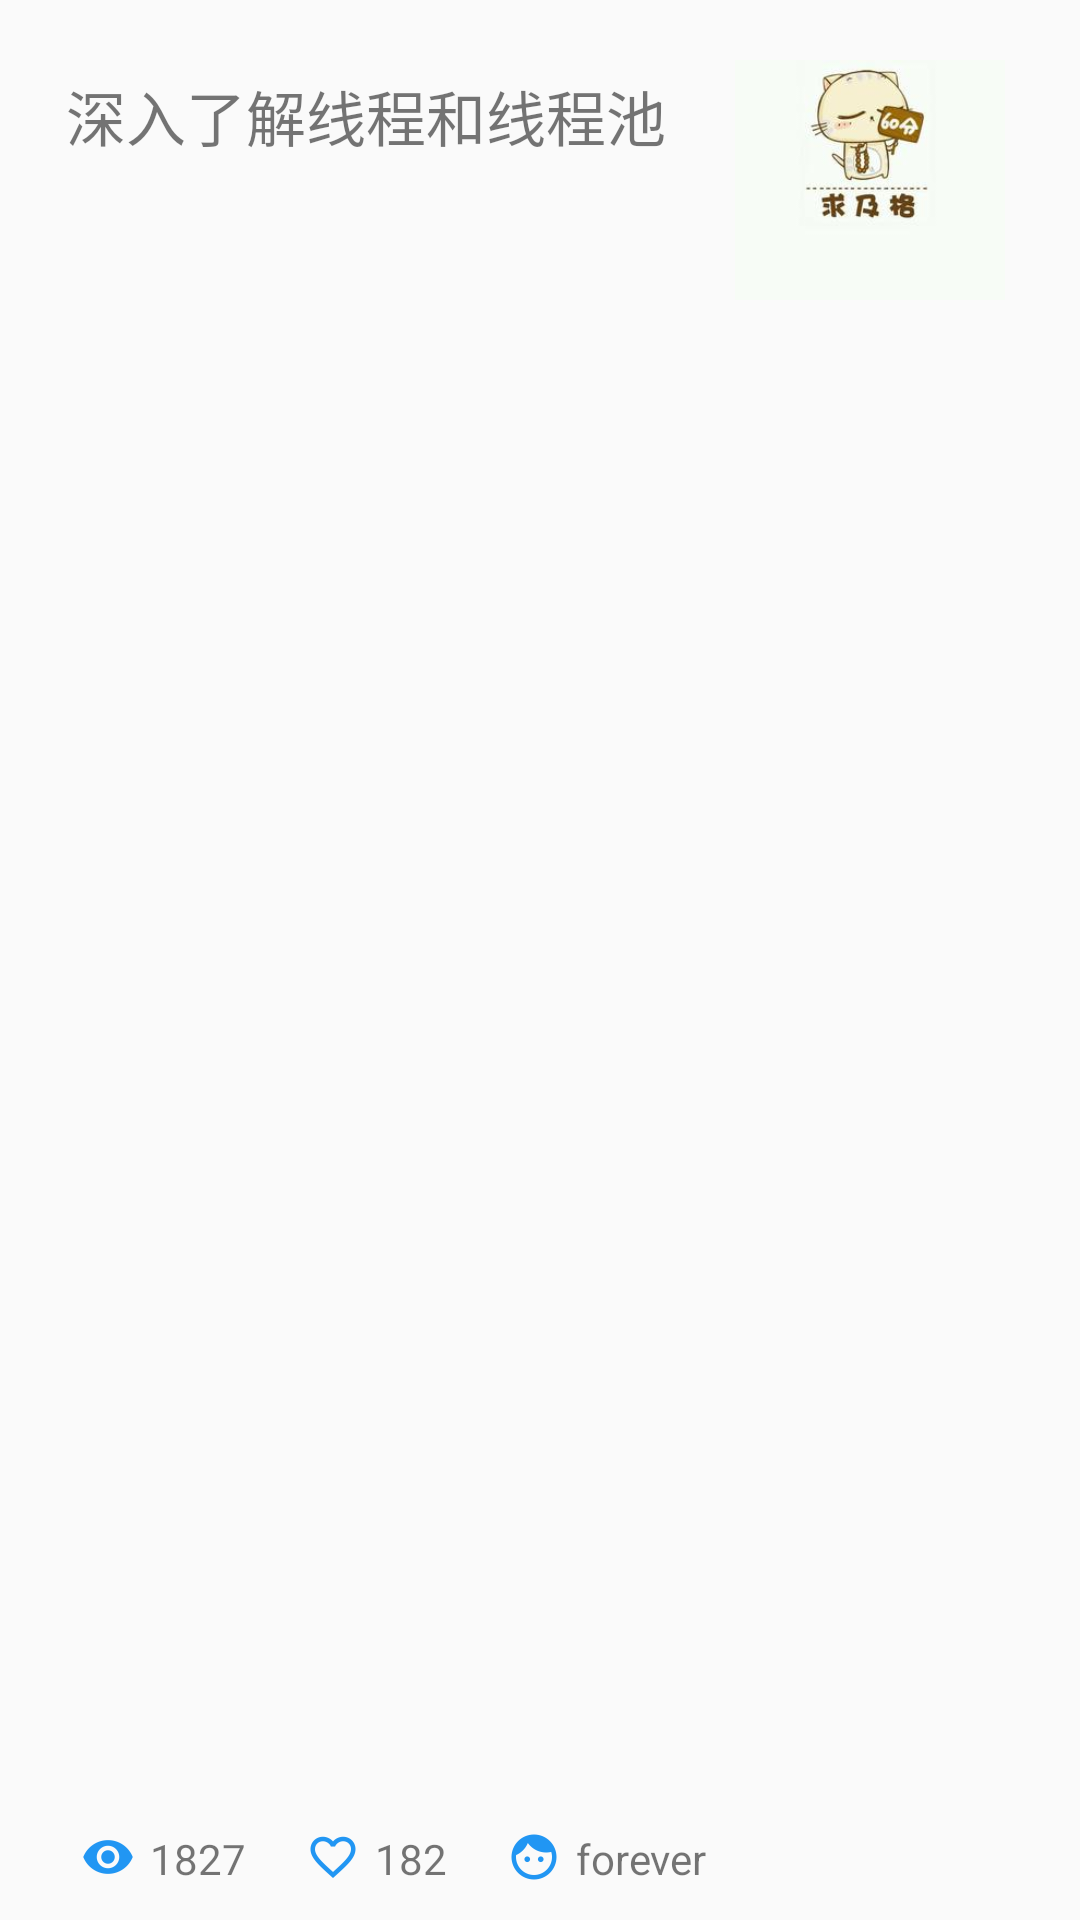

Point at icon controls on the screen. Image size 1080 x 1920, points as [x,y].
author: [534,1857]
favourite: [333,1857]
viewed: [108,1857]
